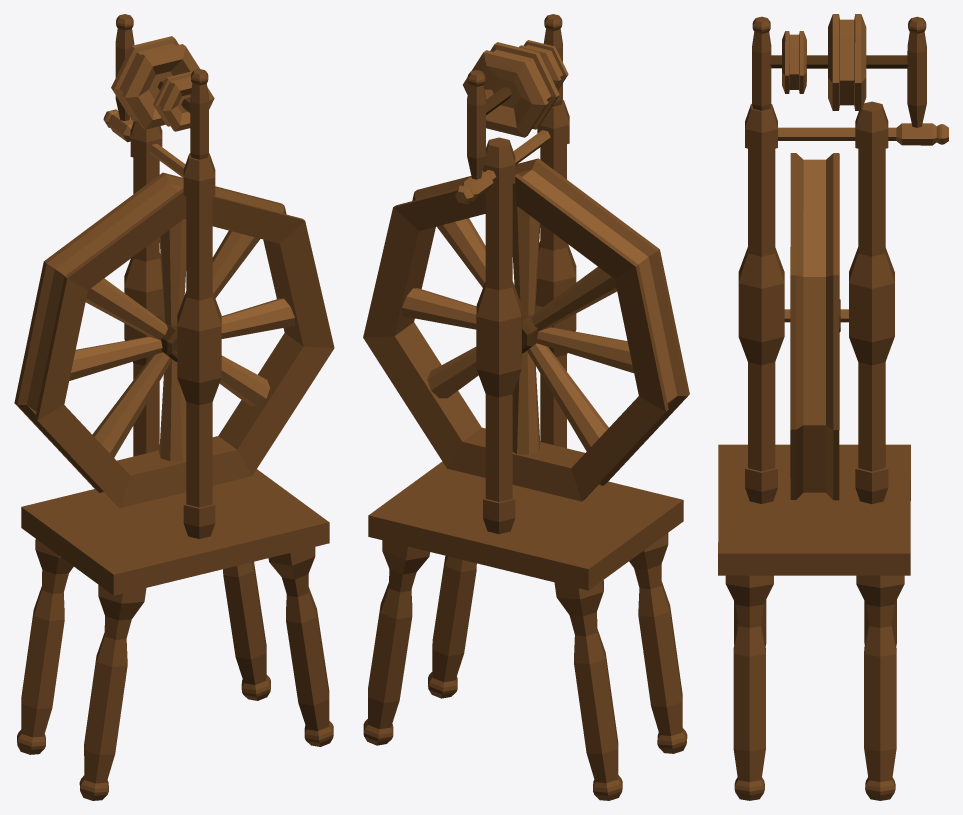
The model's file is F_SpinningWheel.fbx.
3 renders of one model, left to right at view 1: azimuth 30°, elevation 25°; view 2: azimuth 150°, elevation 25°; view 3: azimuth 270°, elevation 25°, orthographic. The views are drawn at different scales.
Parts seen in each view (by area): view 1: F_SpinningWheel, F_SpinningWheel_Wheel; view 2: F_SpinningWheel, F_SpinningWheel_Wheel; view 3: F_SpinningWheel, F_SpinningWheel_Wheel.
Part boxes in pixels (left/top/right/bottom): F_SpinningWheel: left=17, top=14, right=333, bottom=800; F_SpinningWheel_Wheel: left=14, top=172, right=334, bottom=508; F_SpinningWheel: left=363, top=14, right=687, bottom=800; F_SpinningWheel_Wheel: left=363, top=158, right=689, bottom=501; F_SpinningWheel: left=718, top=14, right=948, bottom=800; F_SpinningWheel_Wheel: left=790, top=153, right=840, bottom=500.
Size of the model in its own units: 59.69 by 134 by 38.77.
